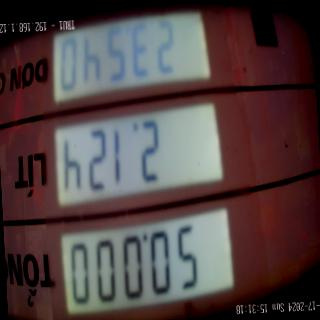screen: (41, 0, 246, 318)
